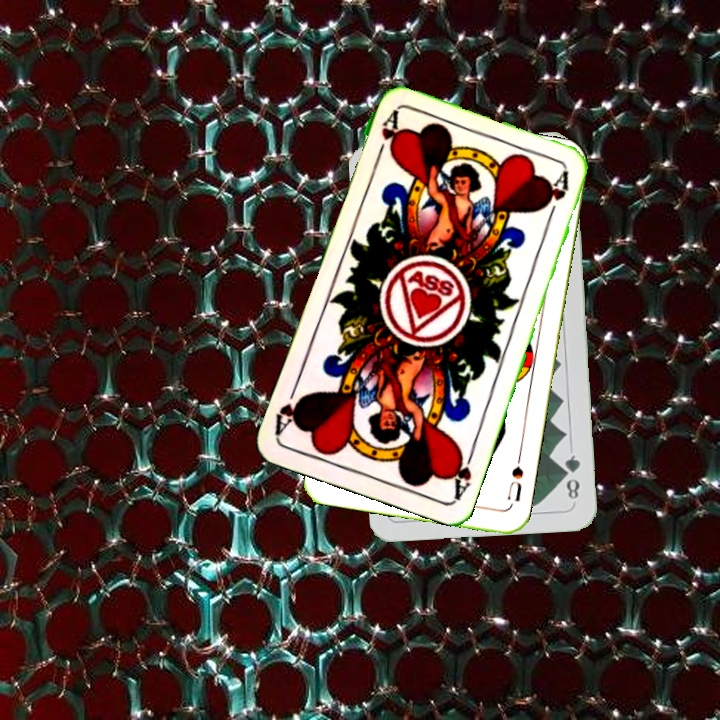G8: (559, 451, 583, 502)
HA: (446, 443, 478, 501), (371, 108, 401, 166)
SU: (503, 450, 526, 504)
